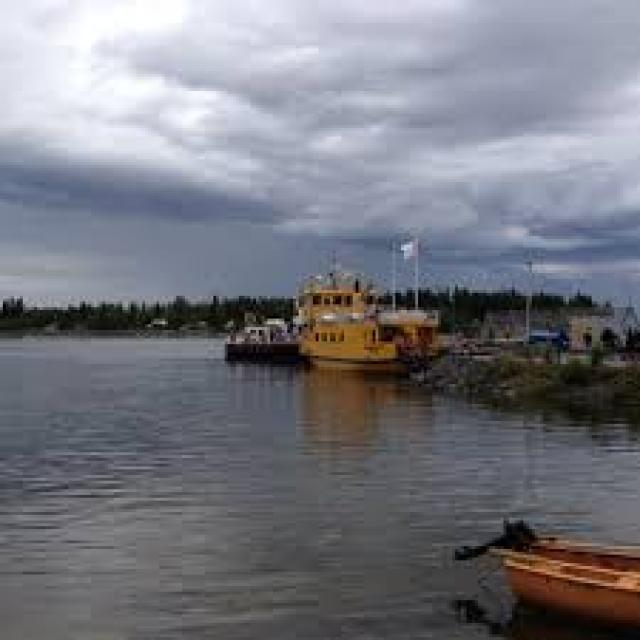fishing boat: (262, 233, 438, 374)
